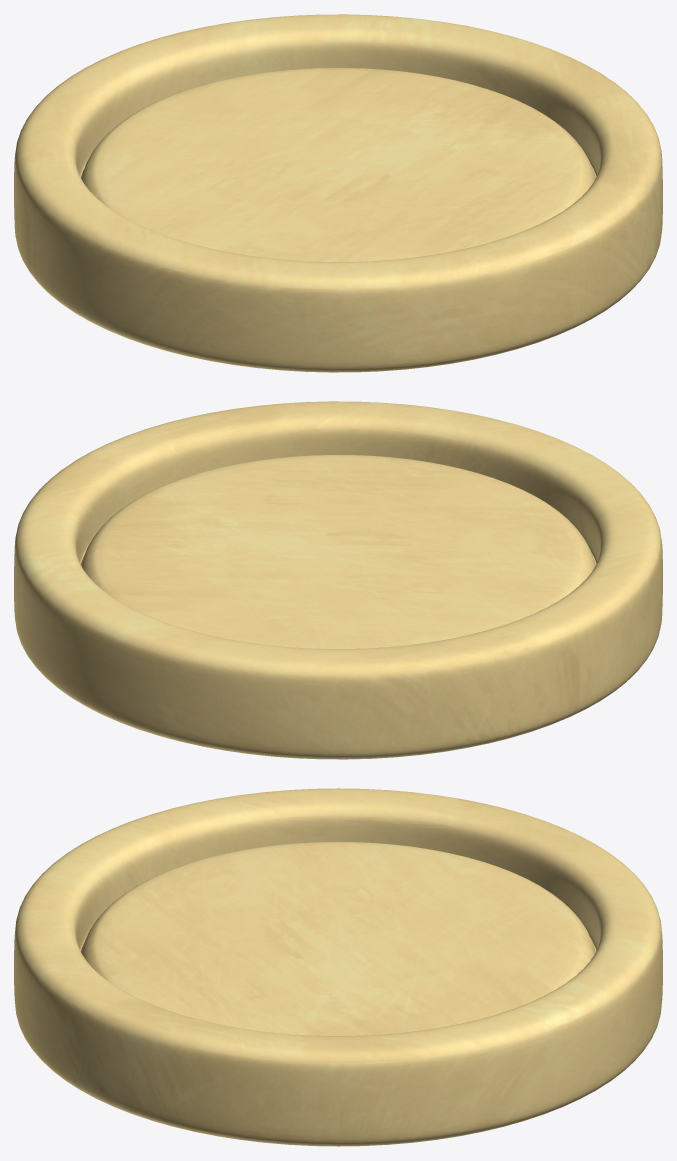
The model's file is X_COINS_.fbx.
3 renders of one model, top to bottom at view 1: azimuth 30°, elevation 25°; view 2: azimuth 150°, elevation 25°; view 3: azimuth 270°, elevation 25°, orthographic.
Parts seen in each view (by area): view 1: X_COINS; view 2: X_COINS; view 3: X_COINS.
Part boxes in pixels (x1,y1,x2,y2): X_COINS: (14, 14, 662, 372); X_COINS: (14, 401, 662, 759); X_COINS: (14, 788, 662, 1146).
Size of the model in its own units: 3.93 by 0.6421 by 3.93.
